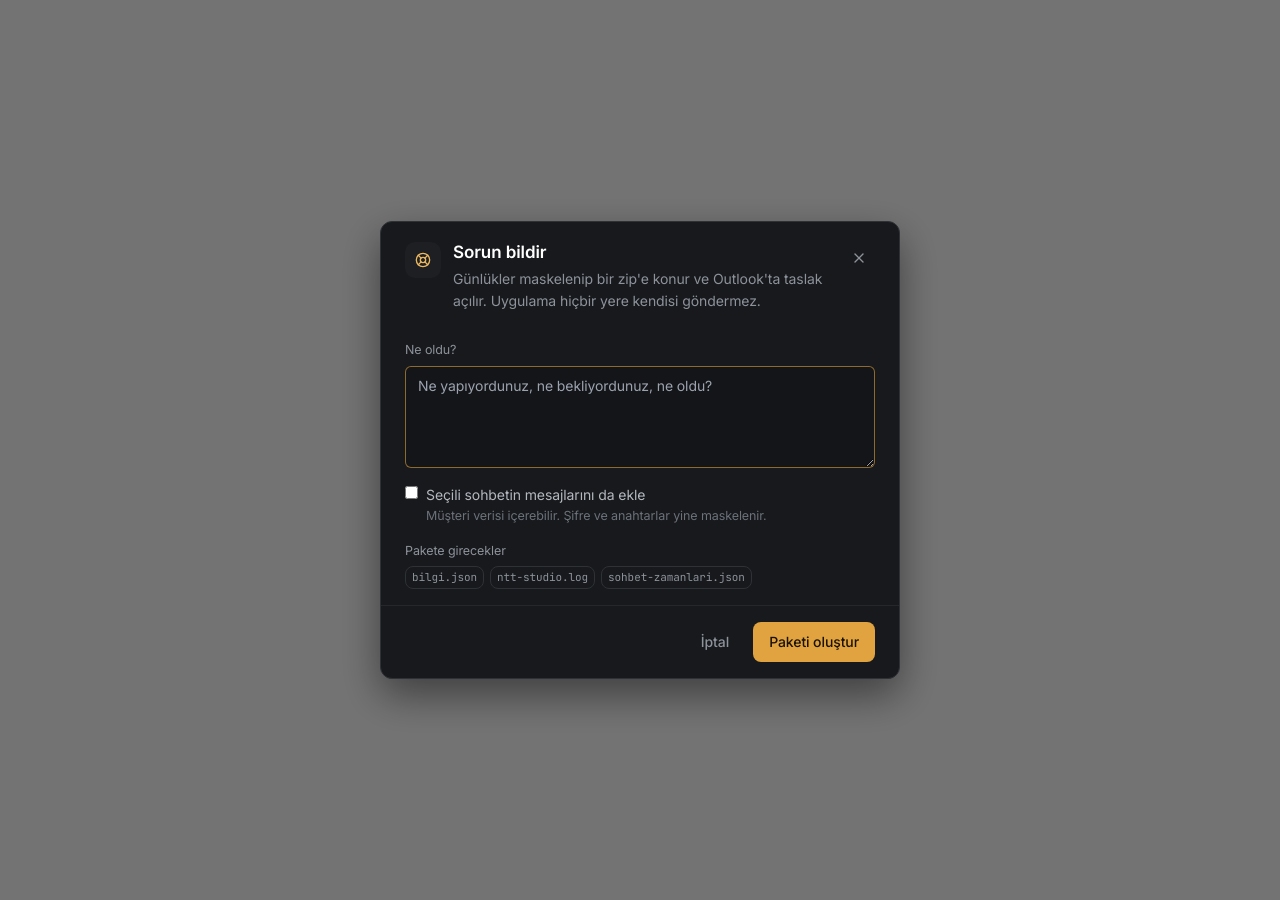
it: SupportDialog › dosya listesi; sohbet kutusu varsayılan kapalı; işaretlenince listeye sohbet.md giriyor
Check: the list item "ntt-studio.log" is shown, box [490, 566, 595, 589]
Check: the text "sohbet.md" is not shown
What coordinates should you click on to do the following:
click the checkbox labelled "Seçili sohbetin mesajlarını da ekle"
I would click on:
 (412, 492)
Its box is [405, 486, 418, 499].
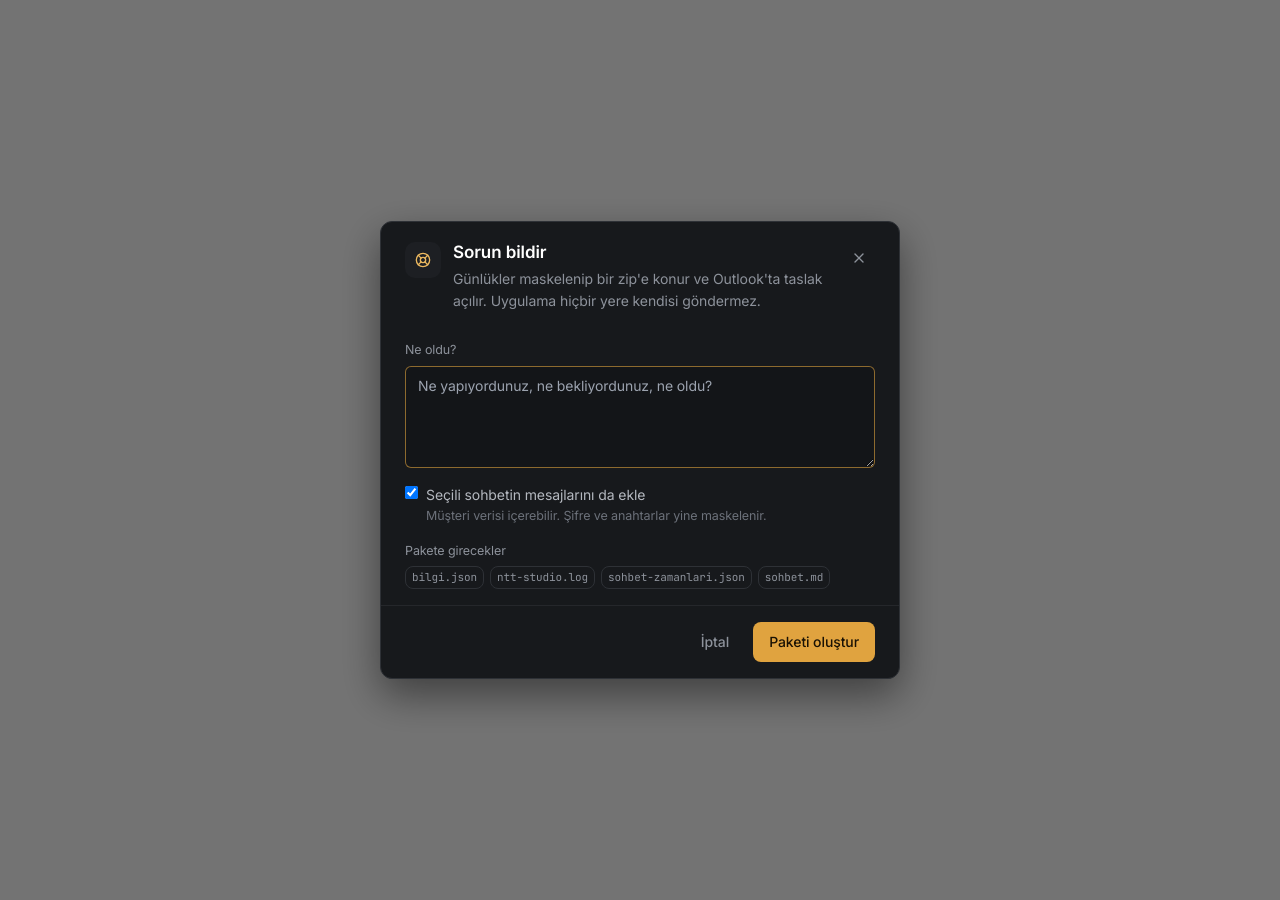
Check: the list item "sohbet.md" is shown, box [758, 566, 830, 589]
